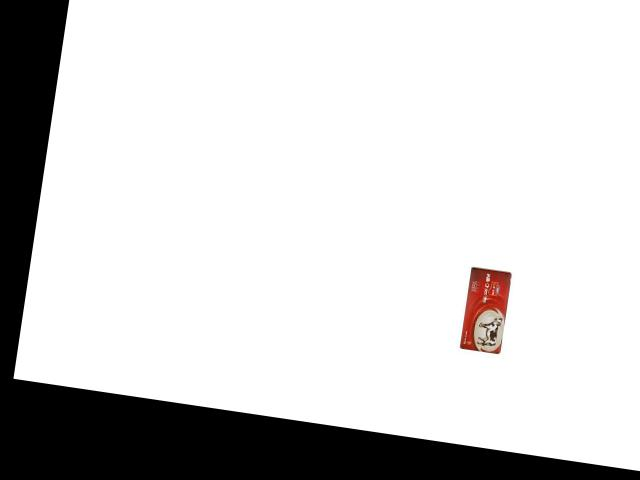chocolate: (457, 264, 512, 354)
